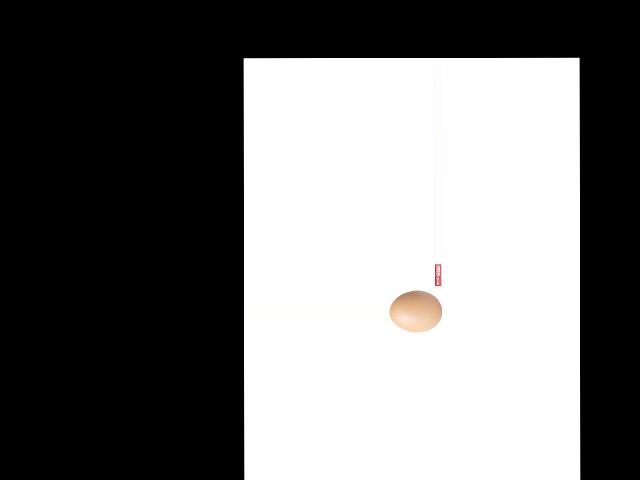egg: (390, 291, 442, 332)
